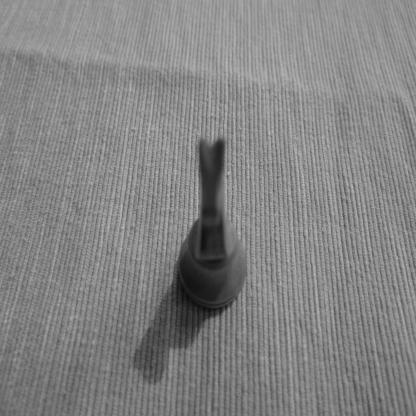white-knight: (178, 134, 248, 312)
